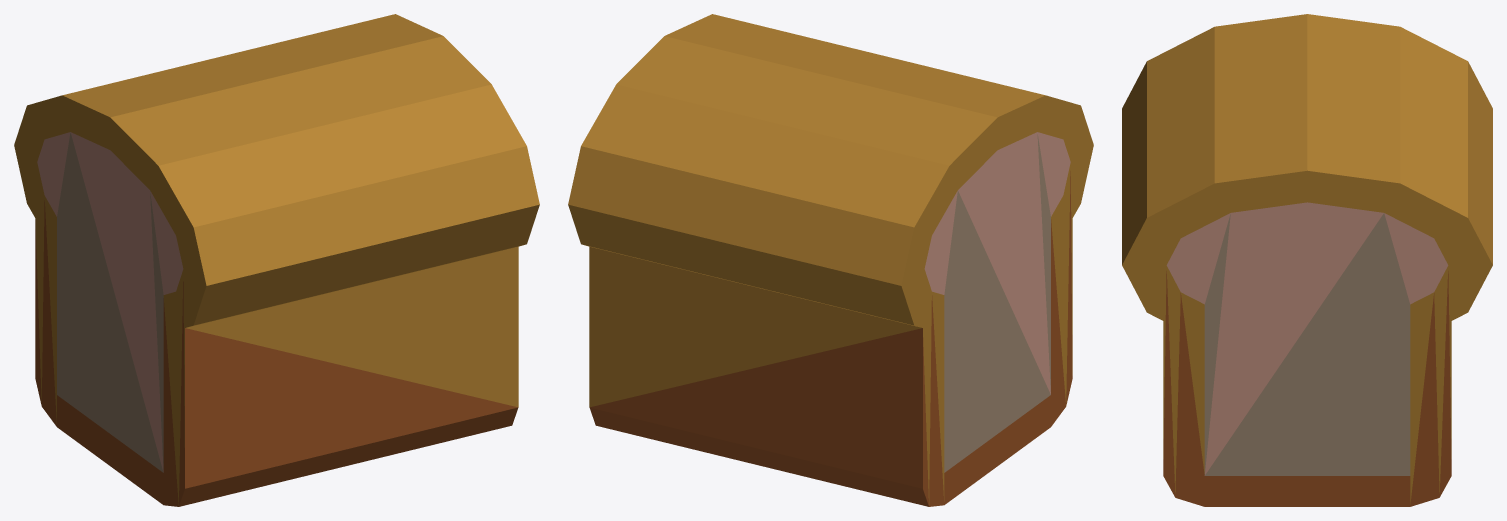
Rendered from loaf.glb.
The picture shows the model from 3 angles, left to right: view 1: azimuth 30°, elevation 25°; view 2: azimuth 150°, elevation 25°; view 3: azimuth 270°, elevation 25°; orthographic projection. The views are drawn at different scales.
Size of the model in its own units: 1 by 1 by 1.
